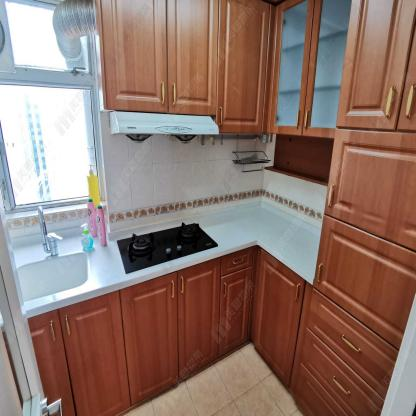Cupboard: (28, 0, 416, 416)
Exhaust Hood: (108, 111, 218, 144)
Sink: (18, 250, 89, 303)
Stove: (118, 221, 219, 275)
